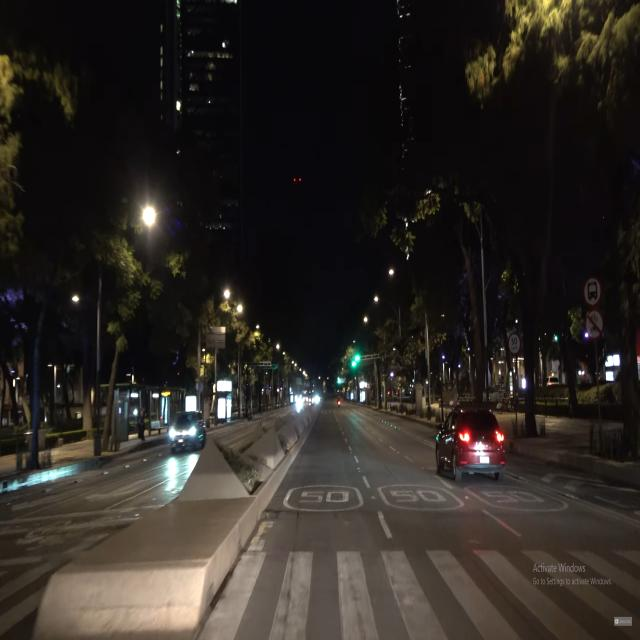headlights: (163, 418, 206, 447)
